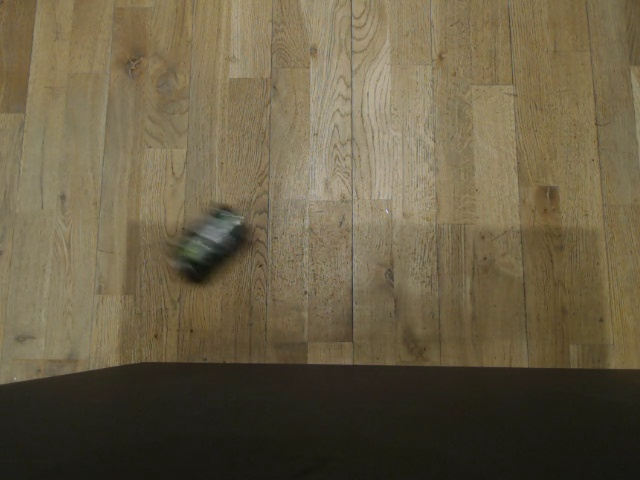beer: (167, 200, 254, 285)
